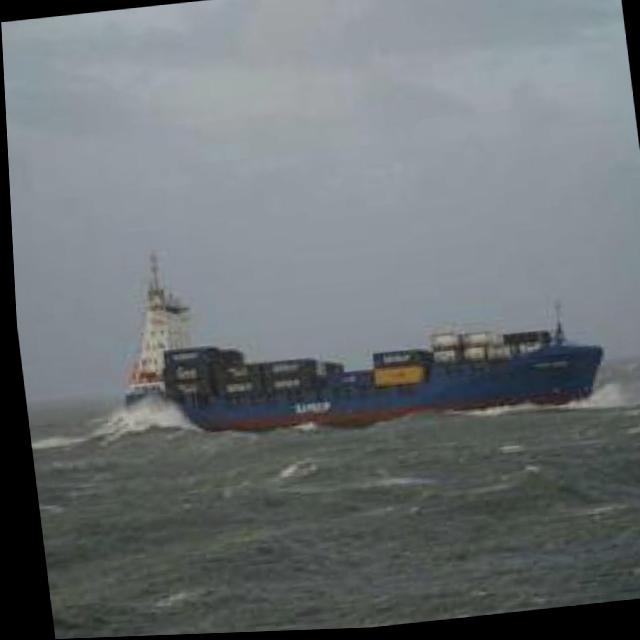ship2: (119, 249, 601, 436)
